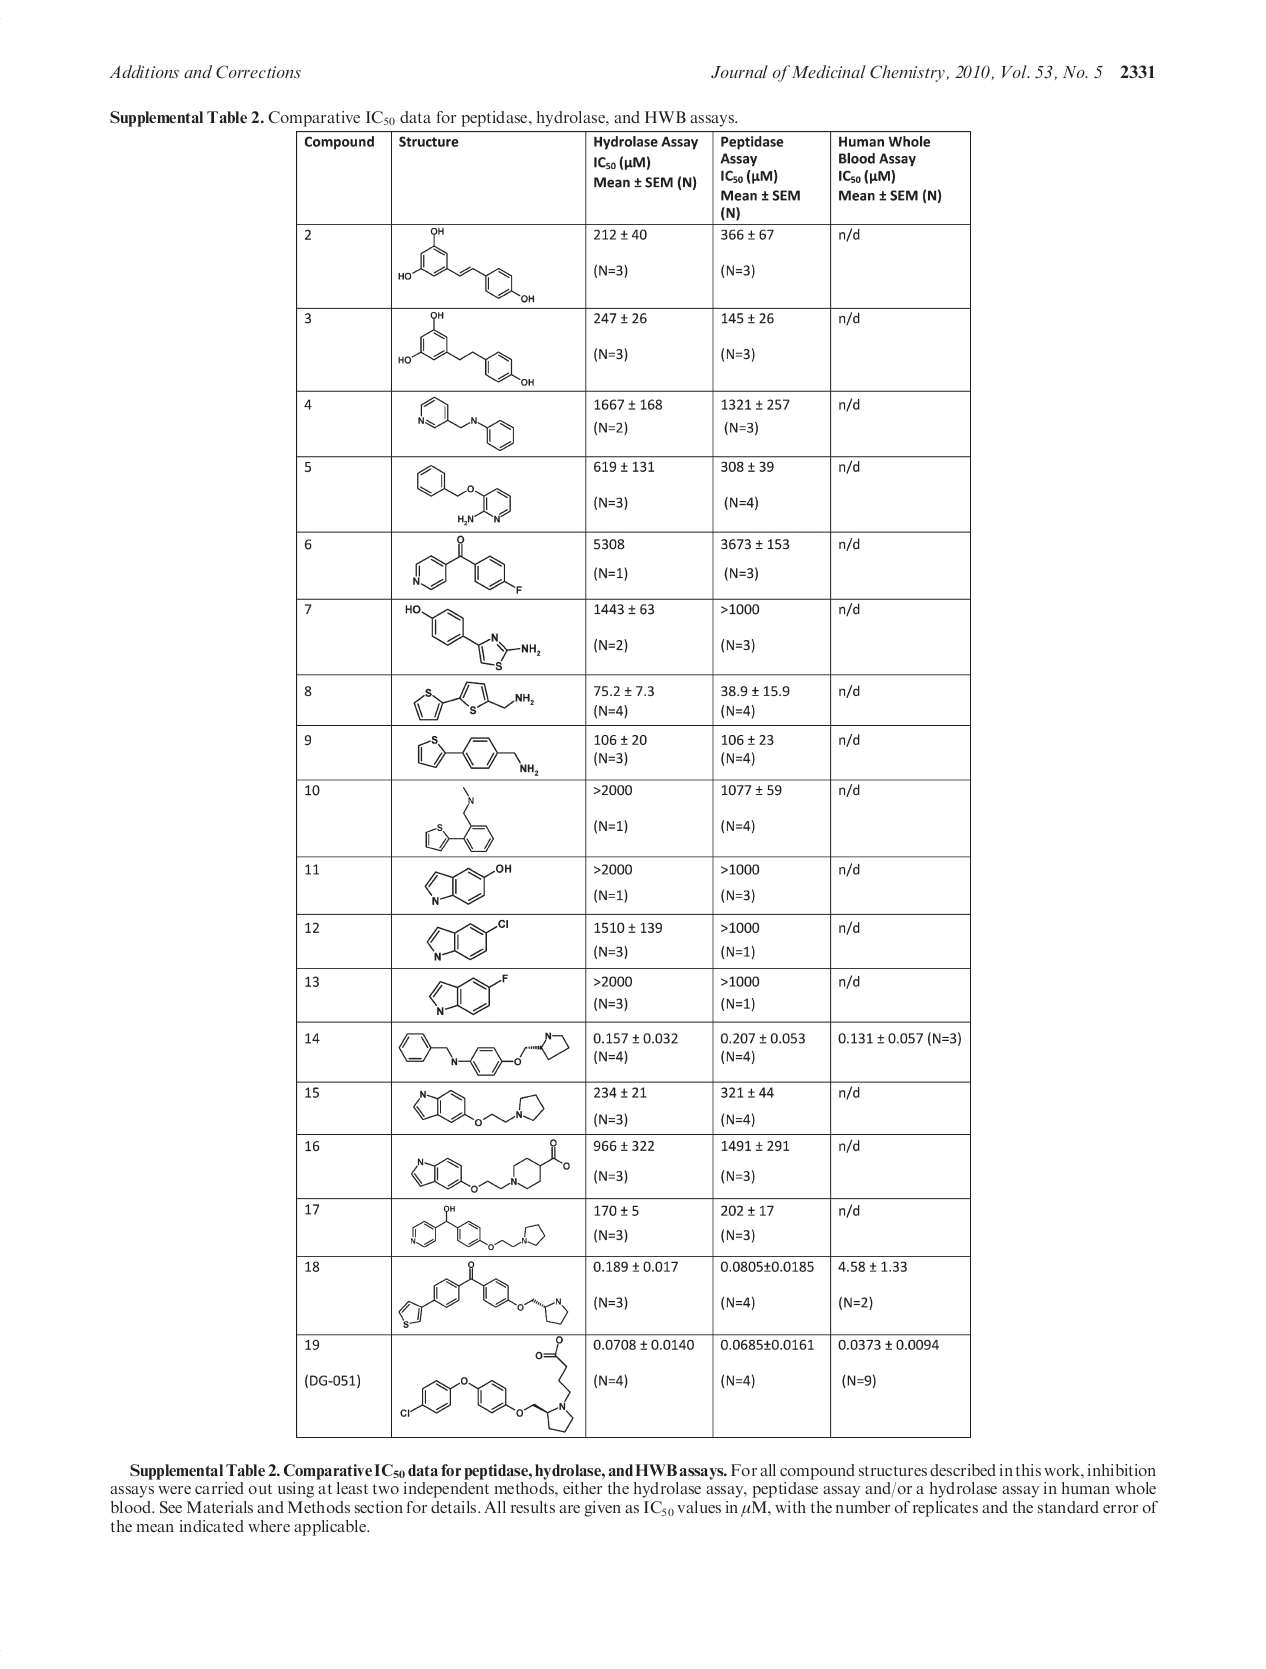exist_molecular: (398, 1337, 574, 1438), (398, 1258, 569, 1330), (394, 227, 539, 305), (398, 311, 539, 390), (394, 600, 543, 672), (410, 1137, 573, 1194), (399, 1028, 570, 1079), (408, 535, 529, 596), (407, 1204, 548, 1254), (408, 460, 515, 527), (410, 392, 519, 452), (412, 731, 541, 778), (406, 1087, 548, 1128), (418, 785, 497, 854), (411, 680, 535, 722), (426, 918, 515, 965), (422, 862, 513, 906), (430, 969, 512, 1017)
